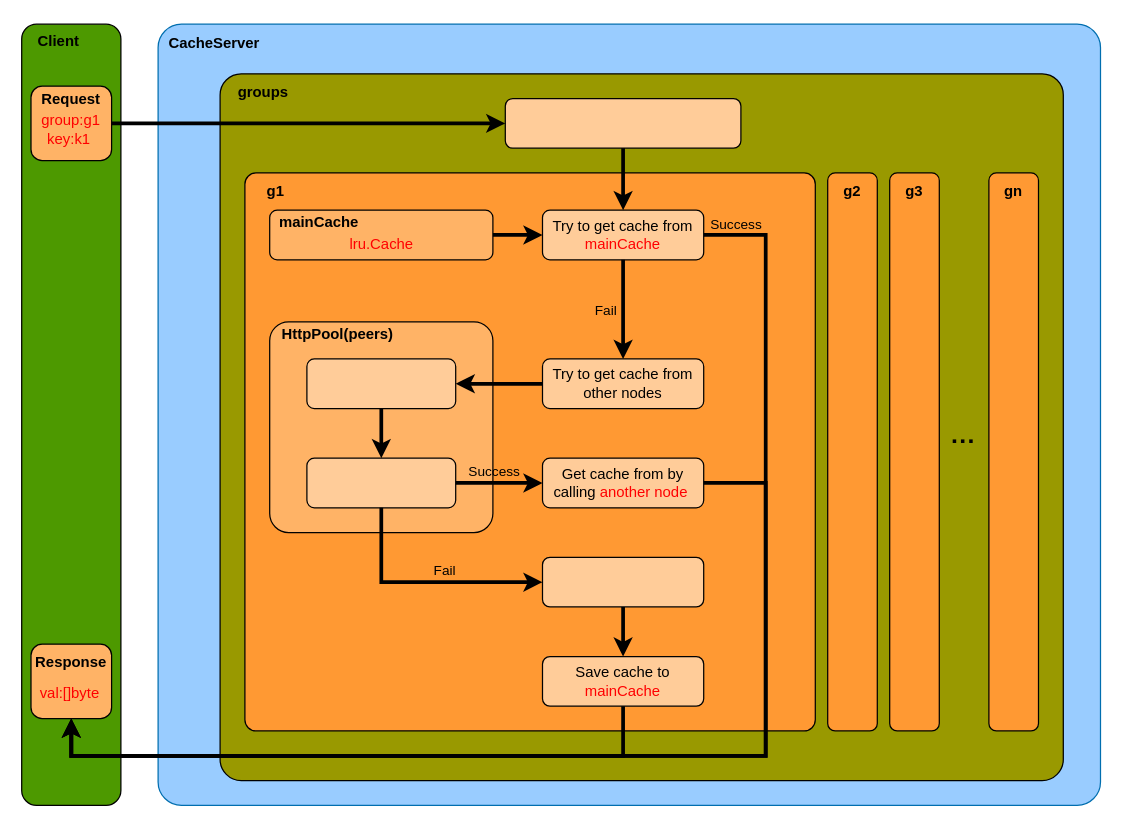
Some shapes in this 1122 by 827 pixel diagram are drawn without their labels. The shapes that lost their labels are listed below. From the top down, each one's box as (x1, y1, x2, y2) in pixels, then its label:
(504, 97, 741, 148): Map group by groupName
(306, 358, 456, 409): Get node name from consistent hash map
(306, 457, 456, 508): Pick peer with node name
(541, 556, 704, 607): Get cache with getter
